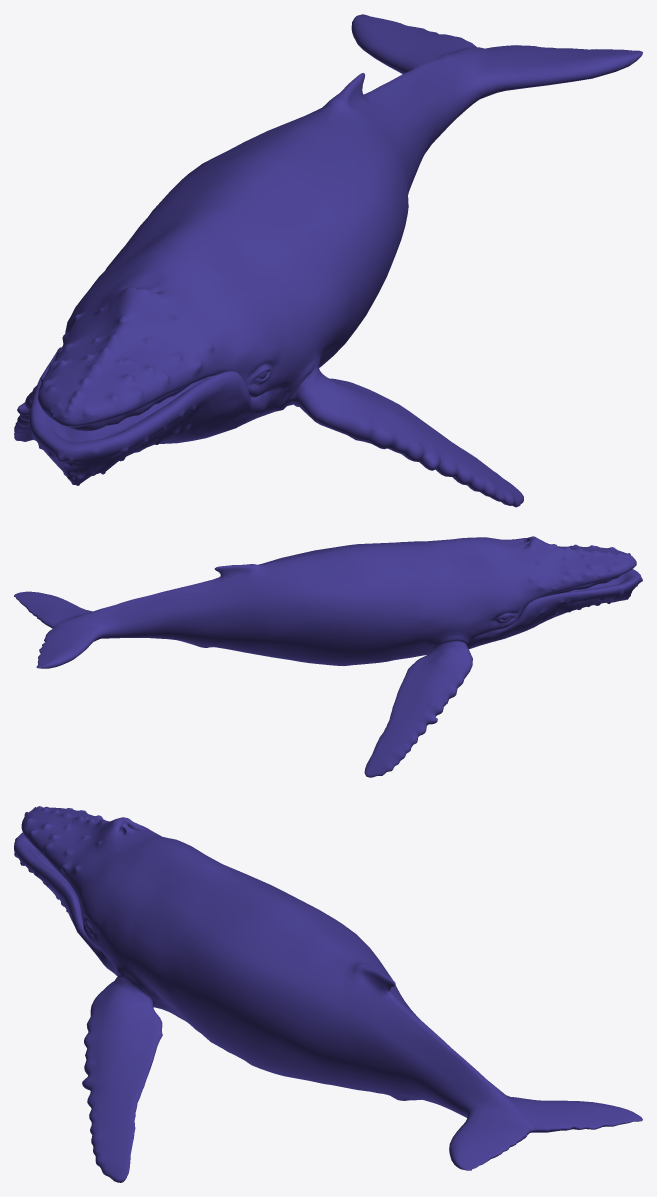
File: Humpback_Whale.fbx
3 renders of one model, top to bottom at view 1: azimuth 30°, elevation 25°; view 2: azimuth 150°, elevation 25°; view 3: azimuth 270°, elevation 25°, orthographic. The views are drawn at different scales.
Parts seen in each view (by area): view 1: humpback_whale; view 2: humpback_whale; view 3: humpback_whale.
Boxes of the visible parts, x1,y1,x2,y2 form: humpback_whale: (14, 14, 642, 507); humpback_whale: (14, 536, 642, 777); humpback_whale: (14, 806, 642, 1182).
Bounding box in the file's own units: 52309 × 18599 × 43755.
